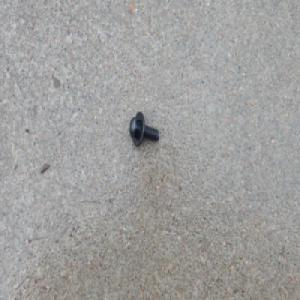BoltWasher: (128, 111, 159, 148)
